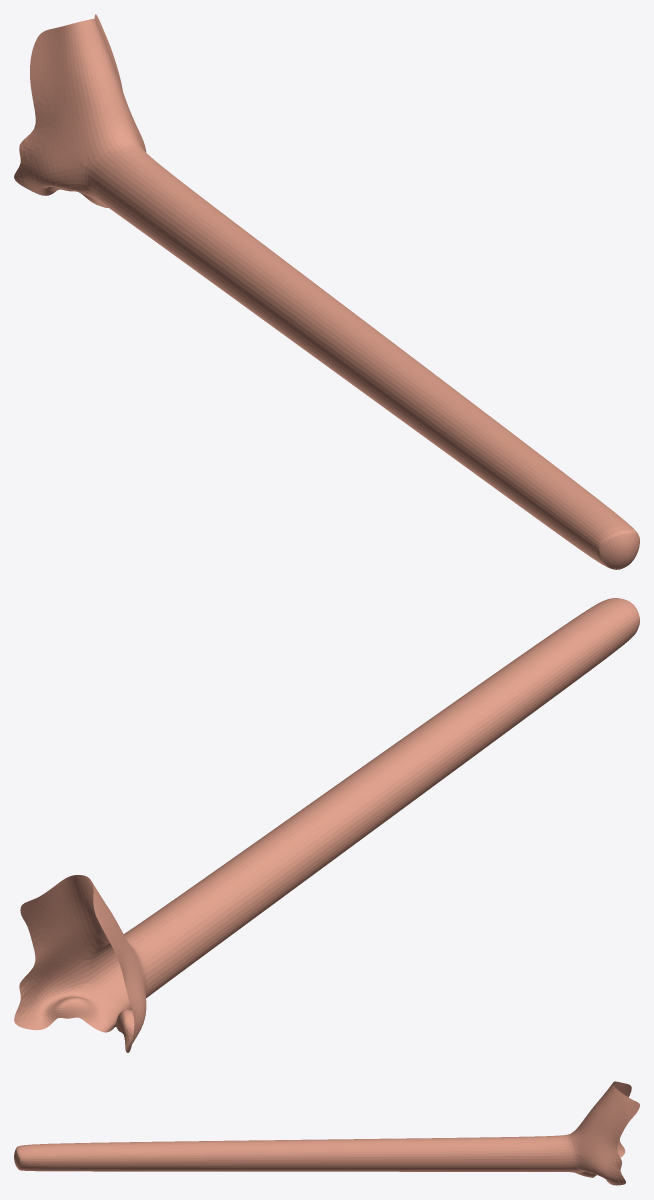
The model's file is nose3.obj.
3 renders of one model, top to bottom at view 1: azimuth 30°, elevation 25°; view 2: azimuth 150°, elevation 25°; view 3: azimuth 270°, elevation 25°, orthographic. The views are drawn at different scales.
Parts seen in each view (by area): view 1: nose_end; view 2: nose_end; view 3: nose_end.
Part boxes in pixels (x1,y1,x2,y2): nose_end: (14, 14, 639, 569); nose_end: (14, 598, 639, 1052); nose_end: (14, 1081, 639, 1185).
Bounding box in the file's own units: 0.0385 × 0.0537 × 0.3229.
